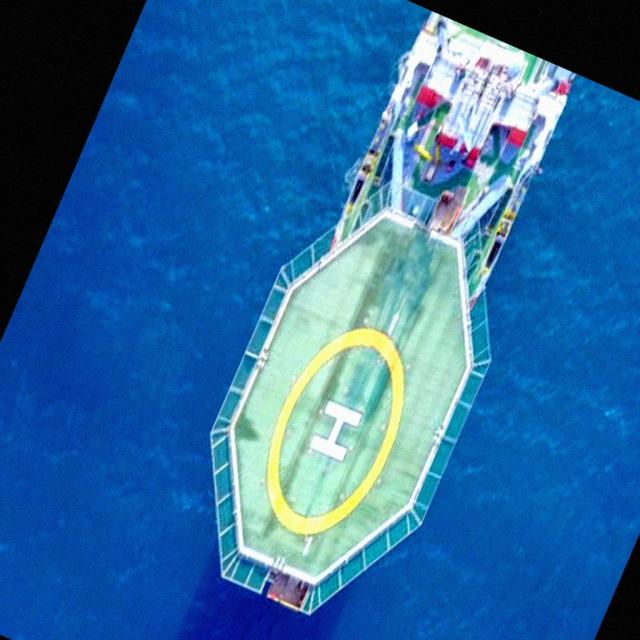helipad: (260, 323, 409, 542)
